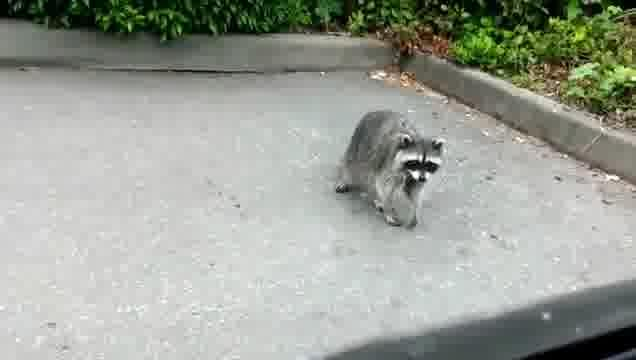raccoon: (332, 105, 448, 233)
